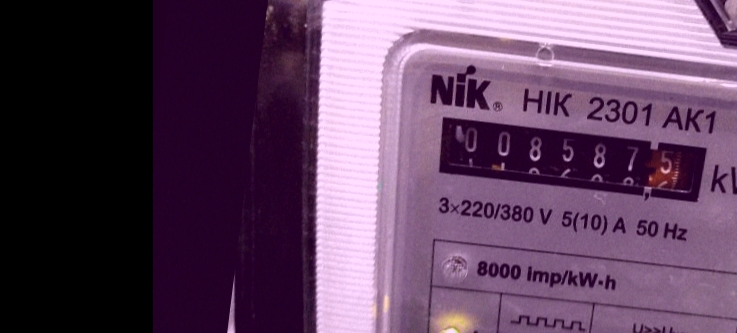0: (492, 127, 513, 157), (459, 122, 479, 153)
5: (655, 146, 676, 177), (556, 134, 576, 164)
7: (619, 141, 640, 173)
8: (588, 138, 608, 170), (524, 132, 543, 162)
screen: (415, 98, 725, 217)
